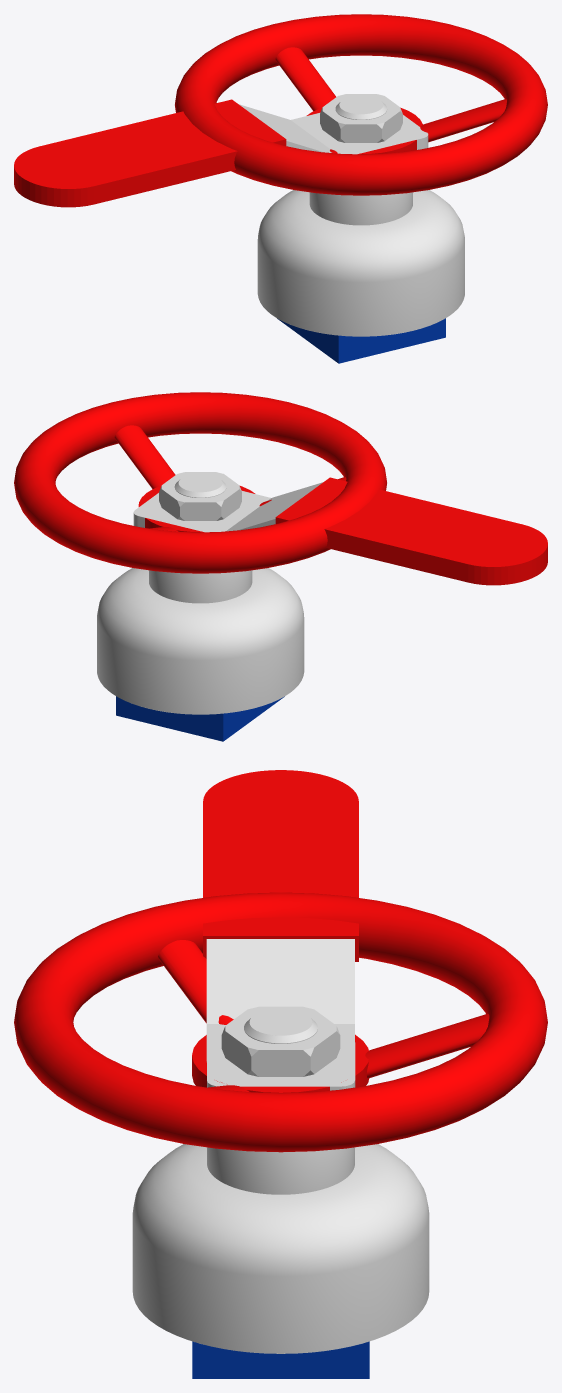
File: ValveHandle.gltf
3 views of the same model, one above another, from view 1: azimuth 30°, elevation 25°; view 2: azimuth 150°, elevation 25°; view 3: azimuth 270°, elevation 25° (orthographic). The views are drawn at different scales.
Parts seen in each view (by area): view 1: Knob, body, Handle; view 2: Knob, body, Handle; view 3: Knob, body, Handle.
Part boxes in pixels (bbox=[...]): Knob: bbox=[175, 14, 547, 195]; body: bbox=[257, 190, 464, 363]; Handle: bbox=[14, 95, 428, 207]; Knob: bbox=[14, 392, 386, 573]; body: bbox=[97, 568, 304, 741]; Handle: bbox=[133, 472, 547, 585]; Knob: bbox=[14, 892, 547, 1152]; body: bbox=[132, 1144, 429, 1378]; Handle: bbox=[203, 770, 358, 1090].
Bounding box in the file's own units: 0.2792 × 0.1306 × 0.18.
